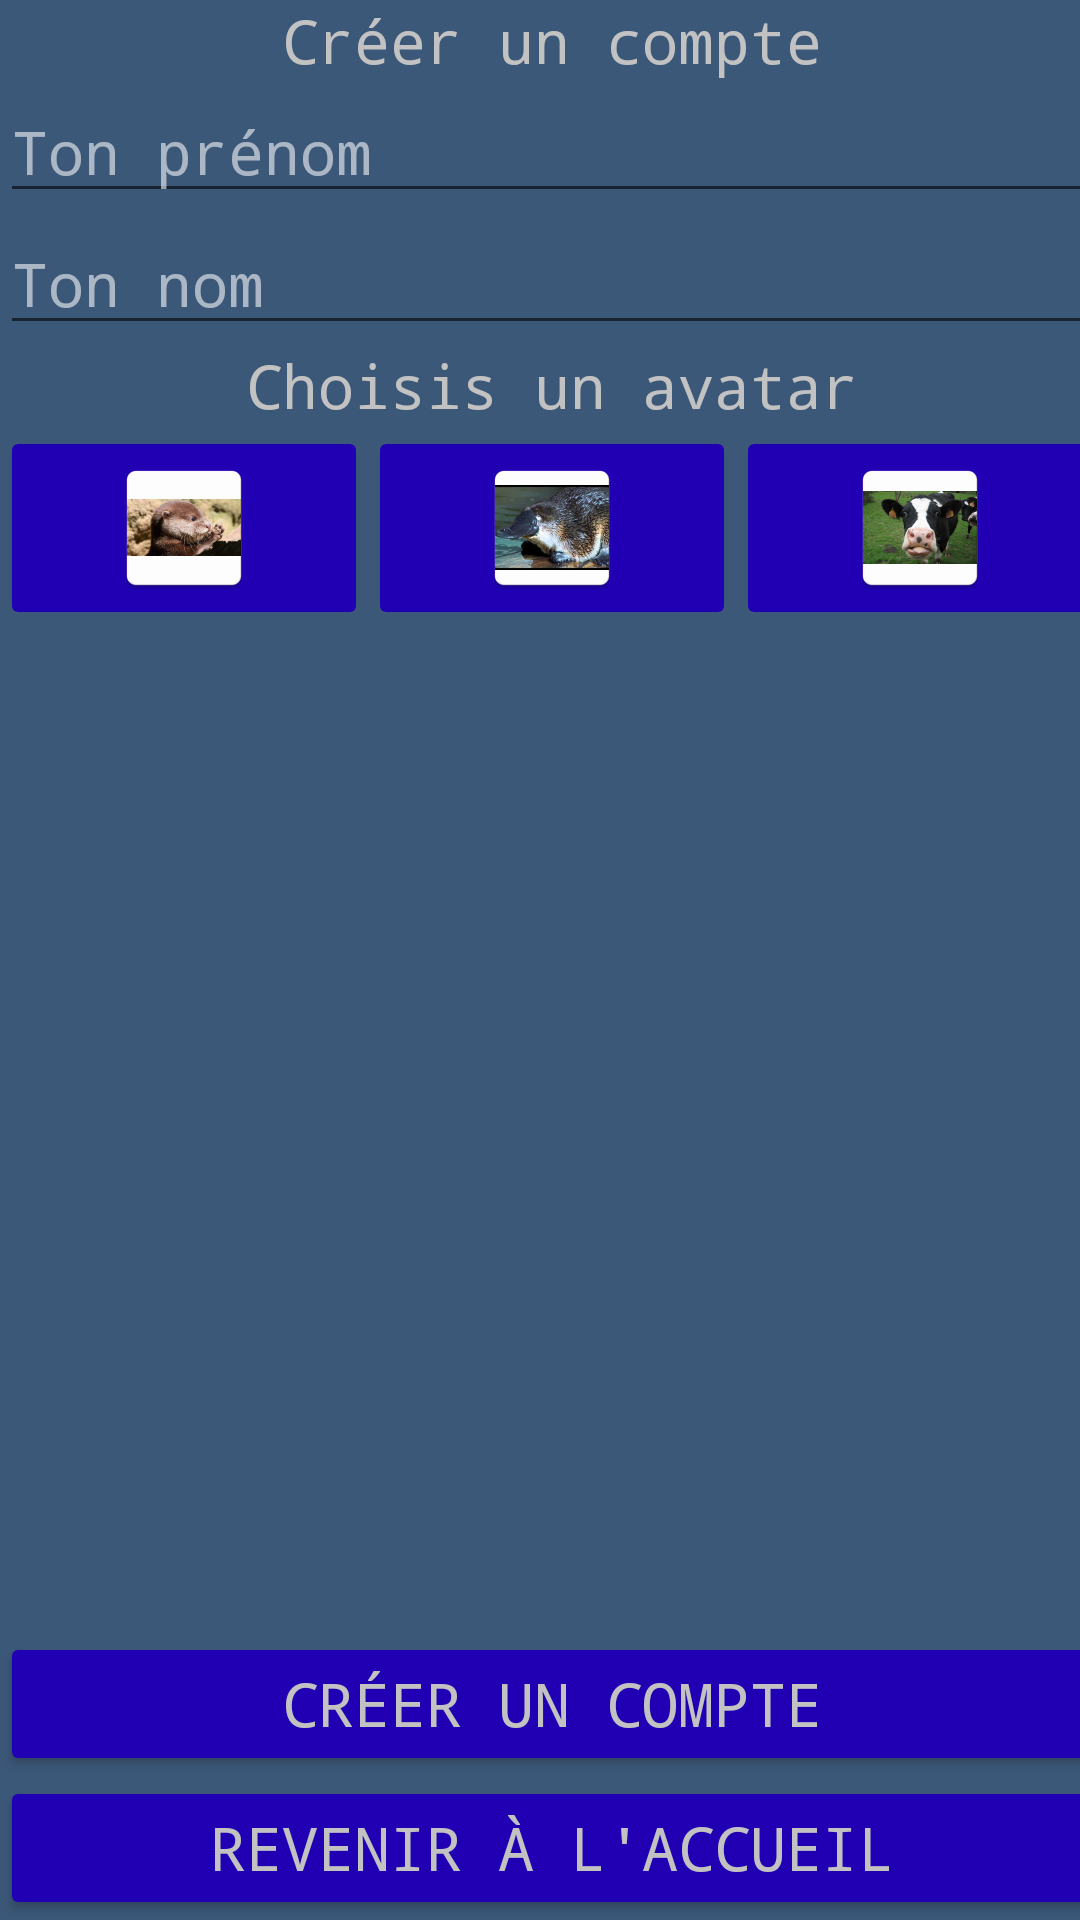

Icons on this 1080x1920 Android screen, each with the point to tap as point (x, y):
loutre: point (184, 528)
ornithorynque: point (552, 528)
vache: point (914, 528)
